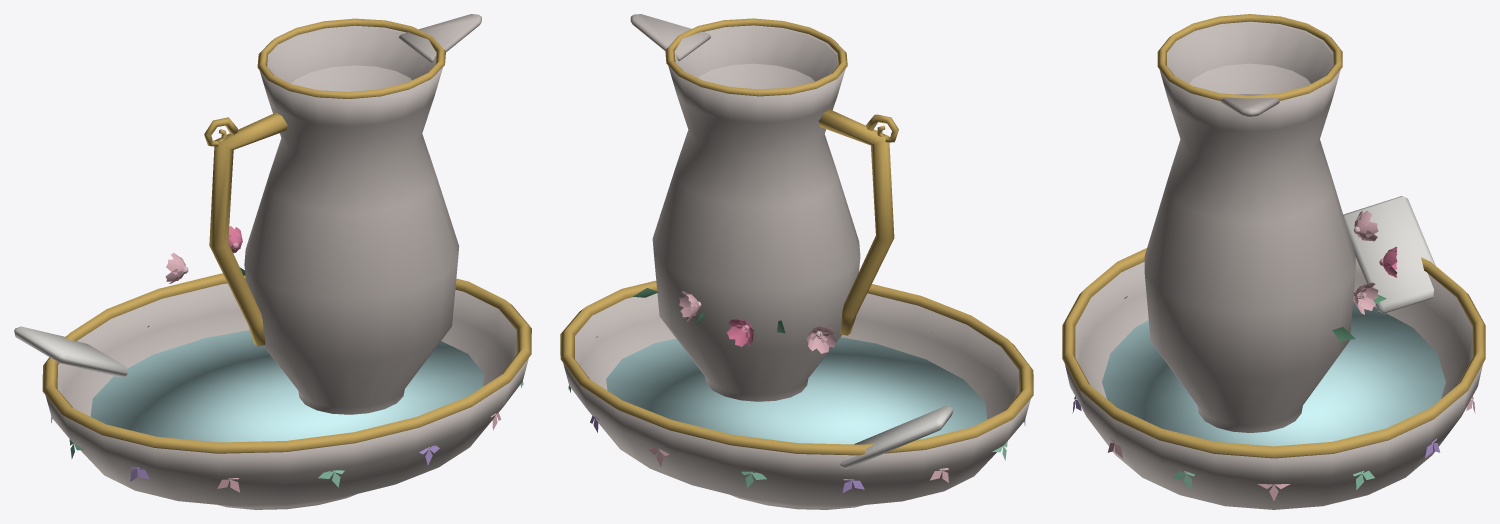
Rendered from basin_and_jug.glb.
3 renders of one model, left to right at view 1: azimuth 30°, elevation 25°; view 2: azimuth 150°, elevation 25°; view 3: azimuth 270°, elevation 25°, orthographic. The views are drawn at different scales.
Parts seen in each view (by area): view 1: basin_and_jug; view 2: basin_and_jug; view 3: basin_and_jug.
Boxes of the visible parts, <box> form: basin_and_jug: <box>14,14,531,509</box>; basin_and_jug: <box>560,14,1033,509</box>; basin_and_jug: <box>1062,14,1485,509</box>.
Size of what is drawn, in the model's own units: 0.45 by 0.4 by 0.35.
